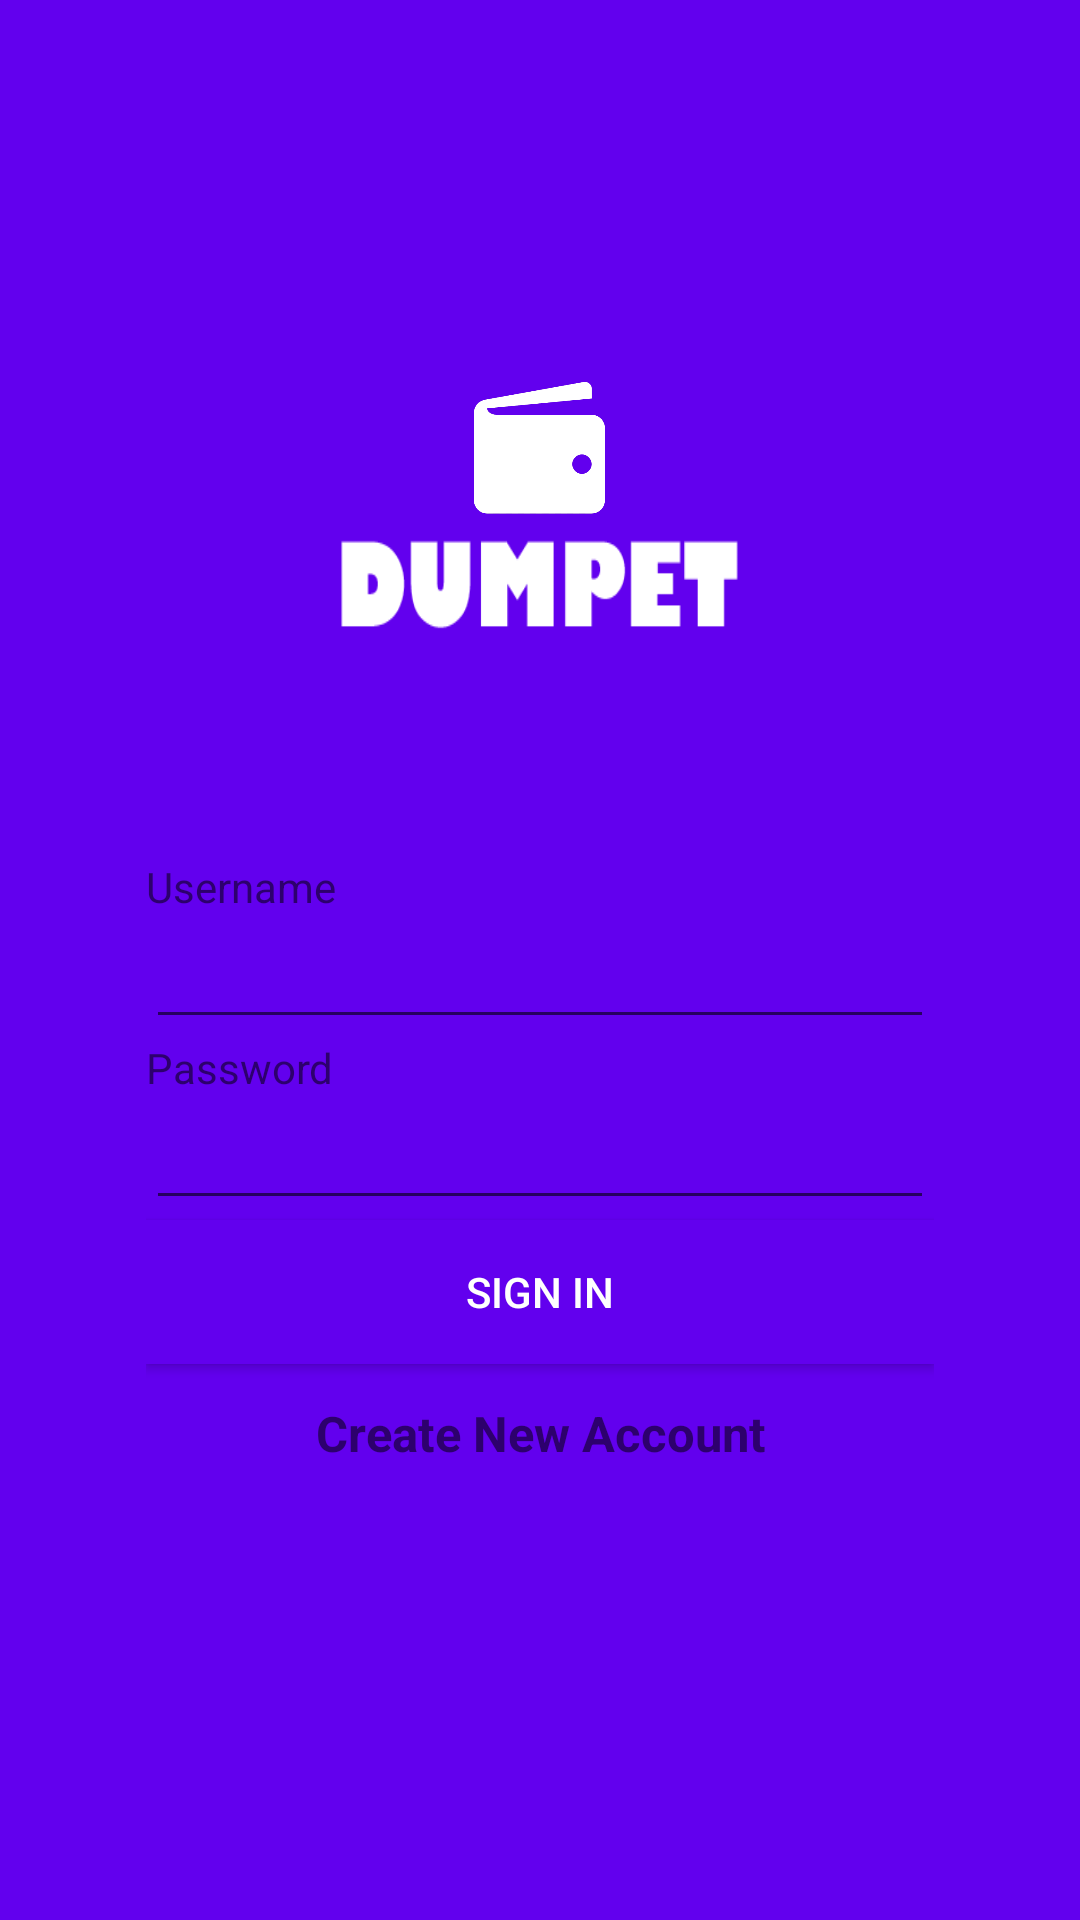

Screen size 1080 x 1920. Icon name, then its center in pixels as (x=x, y=y):
gambardompet: (x=539, y=448)
